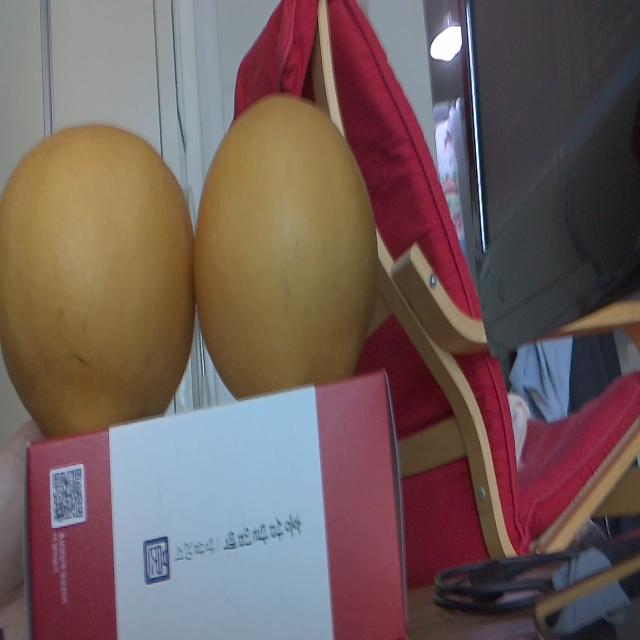pear: (0, 123, 197, 434), (198, 91, 378, 402)
